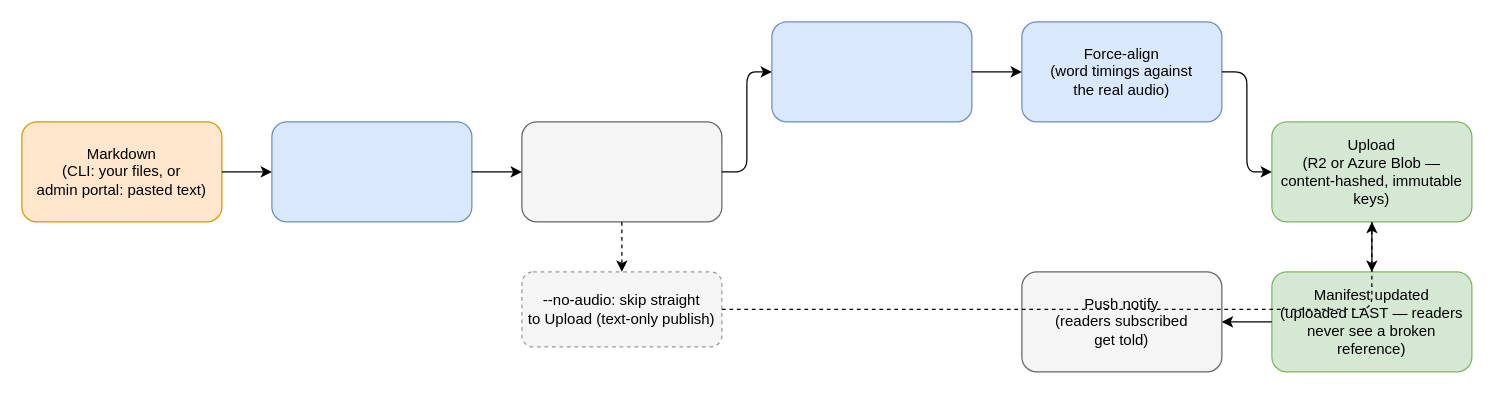
Image size: 1494x394. Some labels were removed from this diagram. The centre of each missing label's shape, as x and y in pixels:
Diff by content hash (unchanged chapters skip everything below): the point at 621,171
Narrate (Kokoro on-device, or Azure Speech if configured): the point at 871,71
Parse (markdown-import.mjs or your --parser): the point at 371,171
